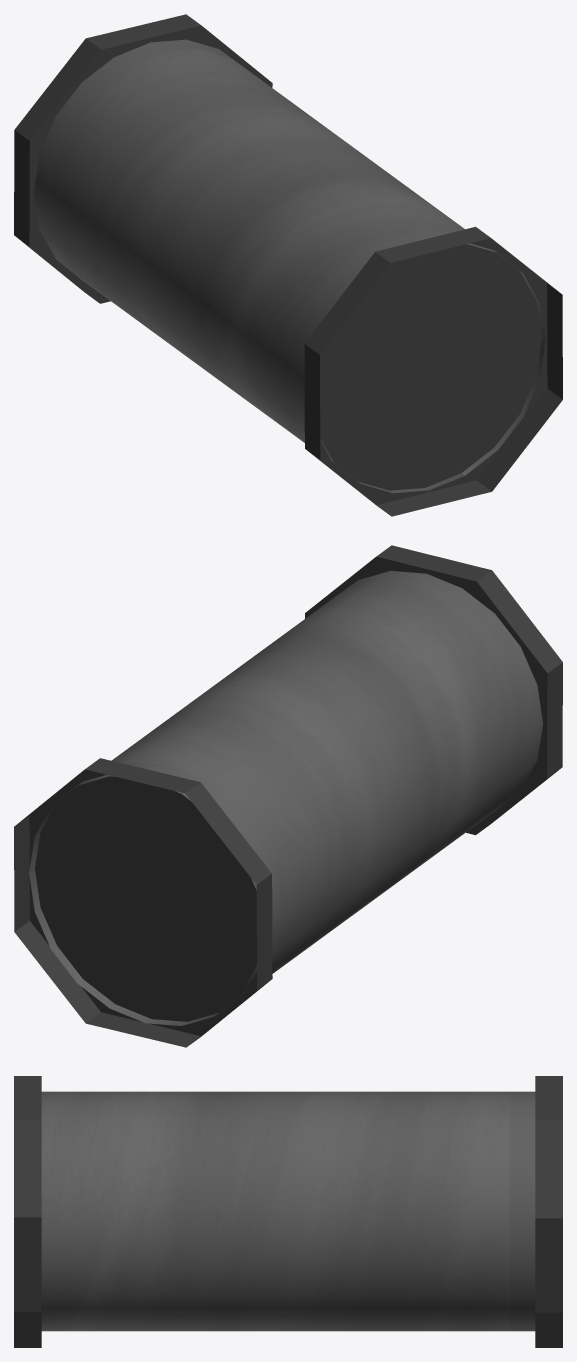
File: pipe.fbx
The picture shows the model from 3 angles, top to bottom: view 1: azimuth 30°, elevation 25°; view 2: azimuth 150°, elevation 25°; view 3: azimuth 270°, elevation 25°; orthographic projection. The views are drawn at different scales.
Parts seen in each view (by area): view 1: pipe; view 2: pipe; view 3: pipe.
Boxes of the visible parts, x1,y1,x2,y2 form: pipe: (14, 14, 562, 516); pipe: (14, 545, 562, 1047); pipe: (14, 1076, 562, 1347).
Bounding box in the file's own units: 32.99 × 32.99 × 71.92.
Materials: 1 (1 with a texture image).
